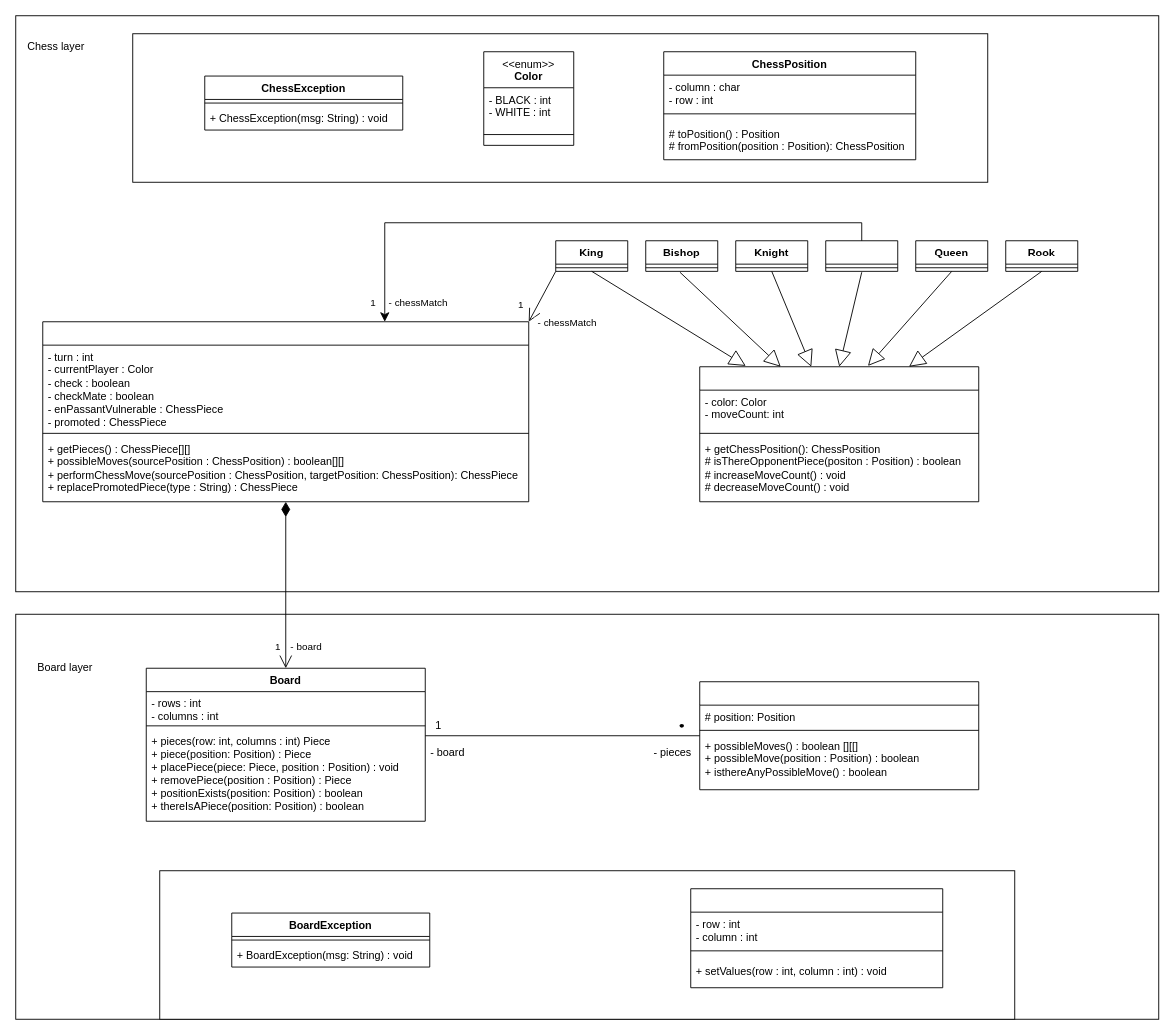
The diagram is 1175 pixels wide and 1035 high, and some of its shapes have lost their labels. Here are the shapes that lost their labels. From the top down, the box of each, then its label:
(825, 240, 898, 271): Pawn
(42, 321, 529, 502): ChessMatch
(699, 366, 979, 502): ChessPiece
(699, 681, 979, 790): Piece
(690, 888, 943, 988): Position
